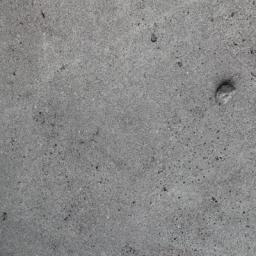FOD: (215, 82, 237, 110)
